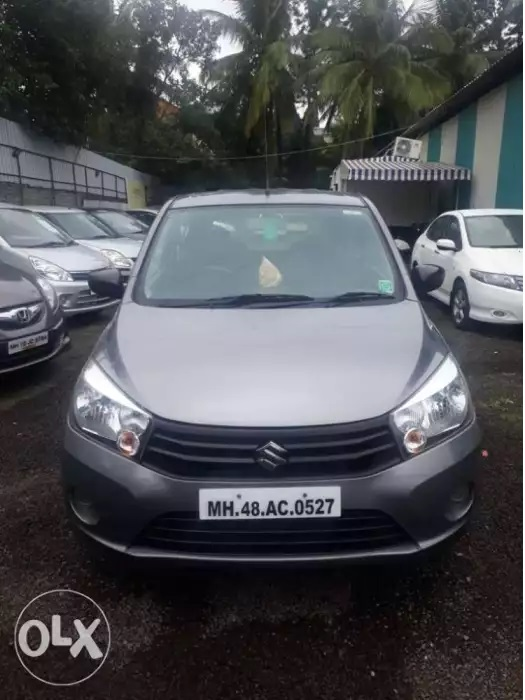licenseplate: (194, 484, 345, 522)
